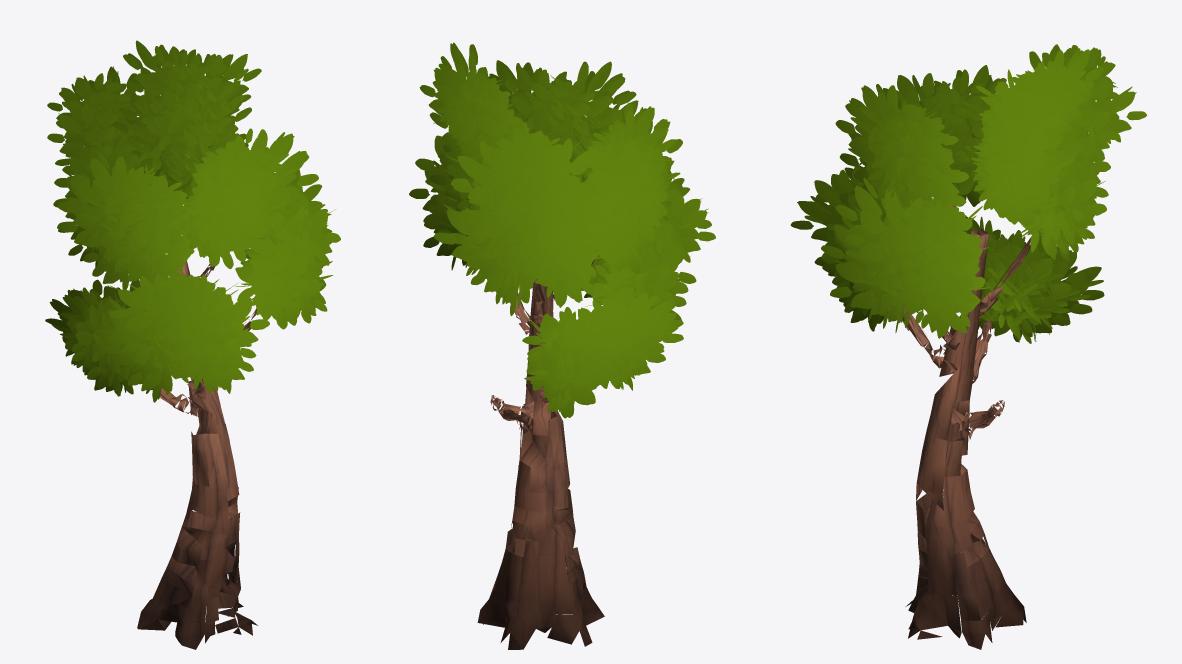
Rendered from FarTree_5.glb.
3 views of the same model, side by side, from view 1: azimuth 30°, elevation 25°; view 2: azimuth 150°, elevation 25°; view 3: azimuth 270°, elevation 25° (orthographic). The views are drawn at different scales.
Visible parts, largest first — view 1: CommonTree_5, CommonTree_5_bark; view 2: CommonTree_5, CommonTree_5_bark; view 3: CommonTree_5, CommonTree_5_bark.
Boxes of the visible parts, x1=… form: CommonTree_5: x1=45, y1=40, x2=340, y2=402; CommonTree_5_bark: x1=137, y1=261, x2=257, y2=649; CommonTree_5: x1=409, y1=42, x2=715, y2=418; CommonTree_5_bark: x1=477, y1=259, x2=604, y2=649; CommonTree_5: x1=790, y1=44, x2=1146, y2=343; CommonTree_5_bark: x1=902, y1=206, x2=1030, y2=649.
Bounding box in the file's own units: 3.67 × 7.08 × 4.22.
2 materials, 2 textured.
